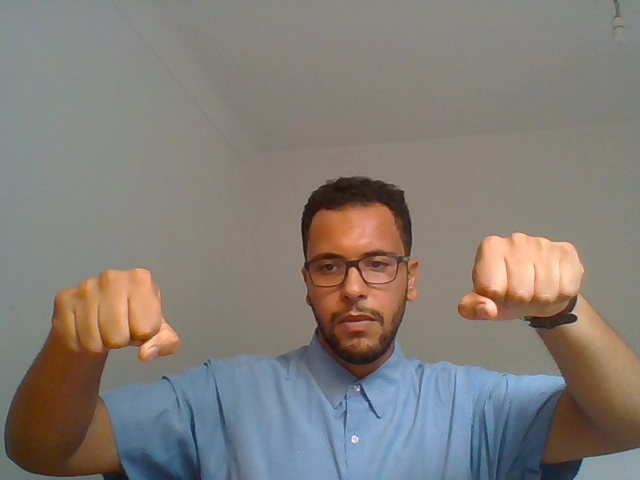yes: (23, 231, 186, 430), (444, 201, 596, 395)
